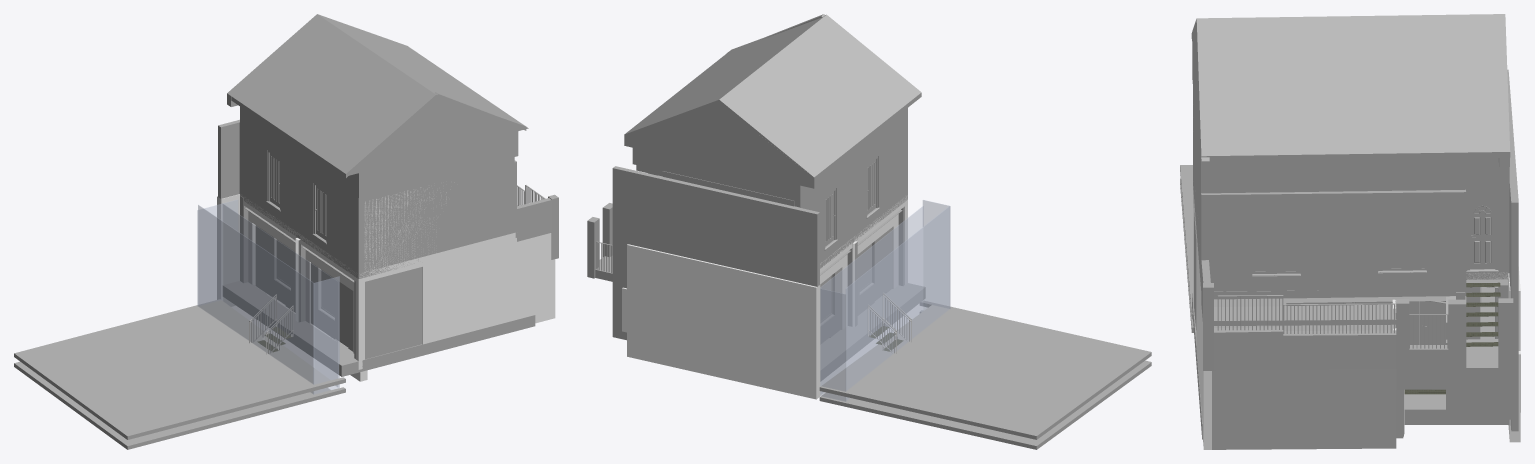
Rendered from FR_Chaville_Existing.gltf.
3 views of the same model, side by side, from view 1: azimuth 30°, elevation 25°; view 2: azimuth 150°, elevation 25°; view 3: azimuth 270°, elevation 25° (orthographic). The views are drawn at different scales.
Visible parts, largest first — view 1: Walls, Floors, Roofs, Curtain Panels, Doors, Structural Columns, Windows; view 2: Walls, Floors, Roofs, Curtain Panels, Doors, Windows, Structural Columns; view 3: Walls, Roofs, Floors, Windows, Doors, Stairs, Structural Columns, Top Rails.
Part boxes in pixels (left/top/right/bottom): Walls: left=217, top=92, right=558, bottom=381; Floors: left=14, top=117, right=535, bottom=449; Roofs: left=227, top=14, right=526, bottom=177; Curtain Panels: left=197, top=200, right=339, bottom=394; Doors: left=266, top=150, right=326, bottom=244; Structural Columns: left=240, top=196, right=355, bottom=358; Windows: left=275, top=239, right=347, bottom=347; Walls: left=587, top=14, right=907, bottom=399; Floors: left=595, top=117, right=1151, bottom=449; Roofs: left=624, top=14, right=921, bottom=178; Curtain Panels: left=820, top=200, right=950, bottom=401; Doors: left=824, top=156, right=879, bottom=250; Windows: left=820, top=243, right=873, bottom=325; Structural Columns: left=847, top=207, right=904, bottom=326; Walls: left=1192, top=20, right=1520, bottom=449; Roofs: left=1191, top=14, right=1510, bottom=161; Floors: left=1180, top=88, right=1509, bottom=439; Windows: left=1252, top=202, right=1426, bottom=275; Doors: left=1417, top=200, right=1498, bottom=344; Stairs: left=1404, top=282, right=1500, bottom=394; Structural Columns: left=1343, top=285, right=1508, bottom=338; Top Rails: left=1218, top=295, right=1448, bottom=314.
Size of the model in its own units: 18.51 by 11.03 by 9.05.
Materials: 9 (1 with a texture image).
